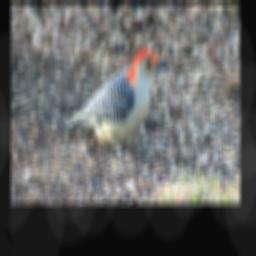Woodpecker: (63, 50, 173, 162)
